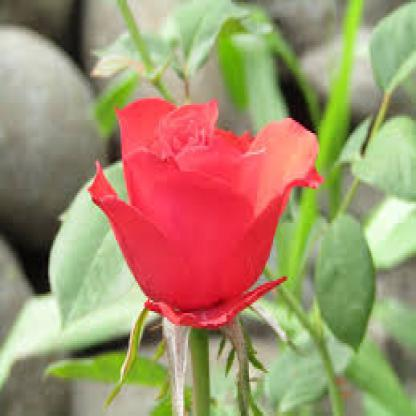Rose-Mawar: (75, 78, 324, 336)
